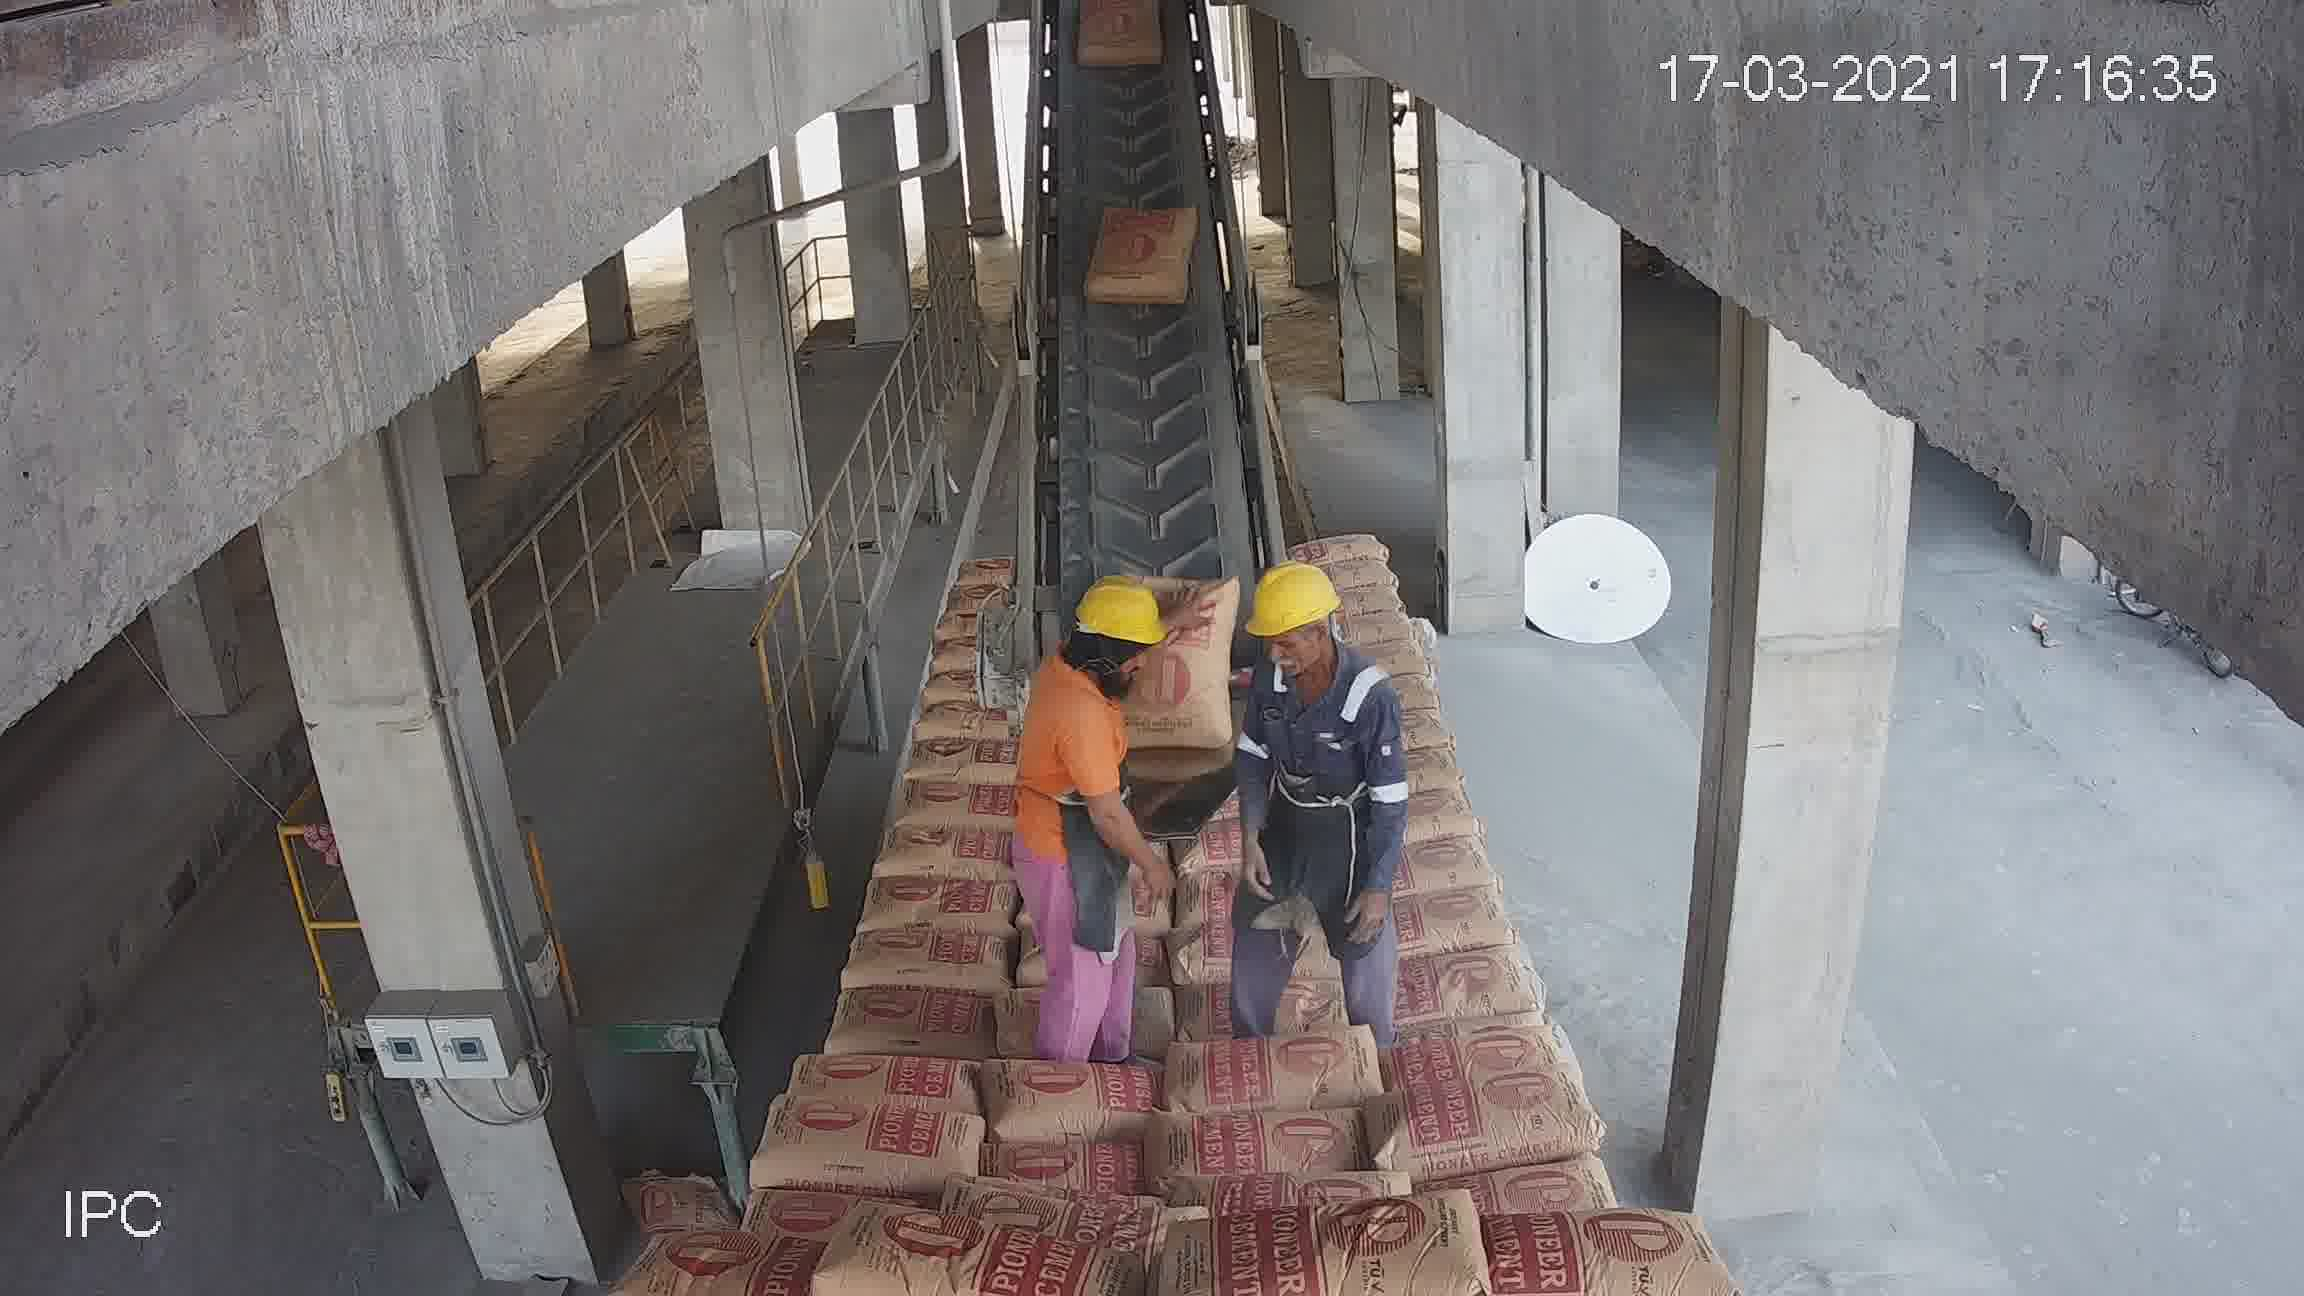bag: (1143, 570, 1234, 748), (1089, 199, 1198, 313)
bag_h: (1198, 1171, 1556, 1294), (791, 1215, 1131, 1294), (1432, 1203, 1700, 1296), (752, 1097, 997, 1193), (1380, 1082, 1581, 1190), (1154, 1105, 1367, 1195), (1362, 1011, 1575, 1097), (1147, 997, 1340, 1082), (972, 1065, 1188, 1138), (1385, 948, 1548, 1036), (639, 1228, 848, 1294), (843, 976, 995, 1059), (1381, 880, 1529, 961), (1377, 831, 1513, 907), (788, 1055, 983, 1105), (997, 1135, 1150, 1195), (855, 934, 999, 995), (870, 728, 1017, 786), (875, 821, 1013, 877), (867, 873, 1025, 921), (891, 766, 1014, 823), (1310, 555, 1413, 597), (1290, 533, 1393, 570)
belt: (994, 38, 1279, 756)
